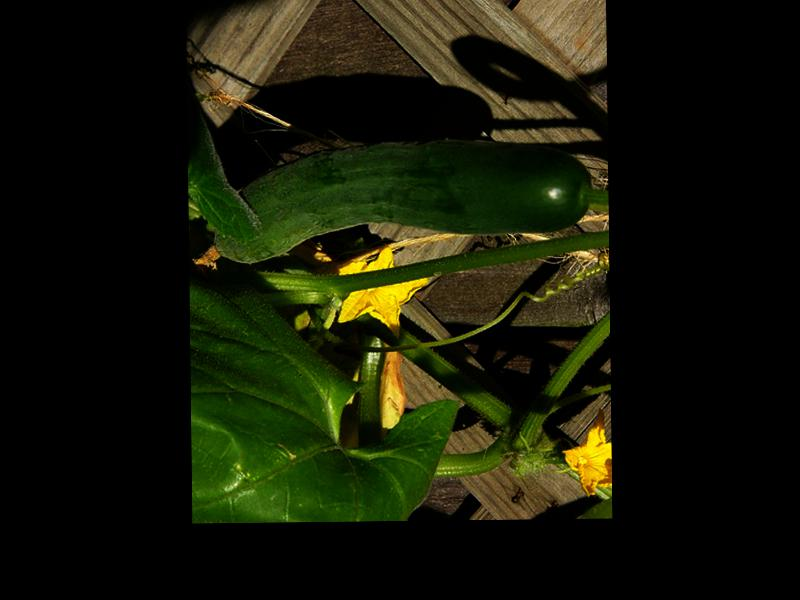Cucumber: (191, 136, 588, 264)
